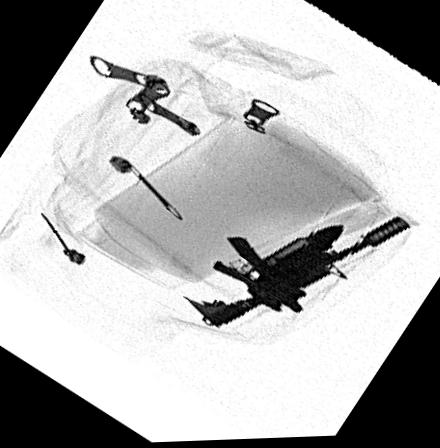Bullet: (259, 228, 346, 281)
Gun: (183, 218, 414, 332)
